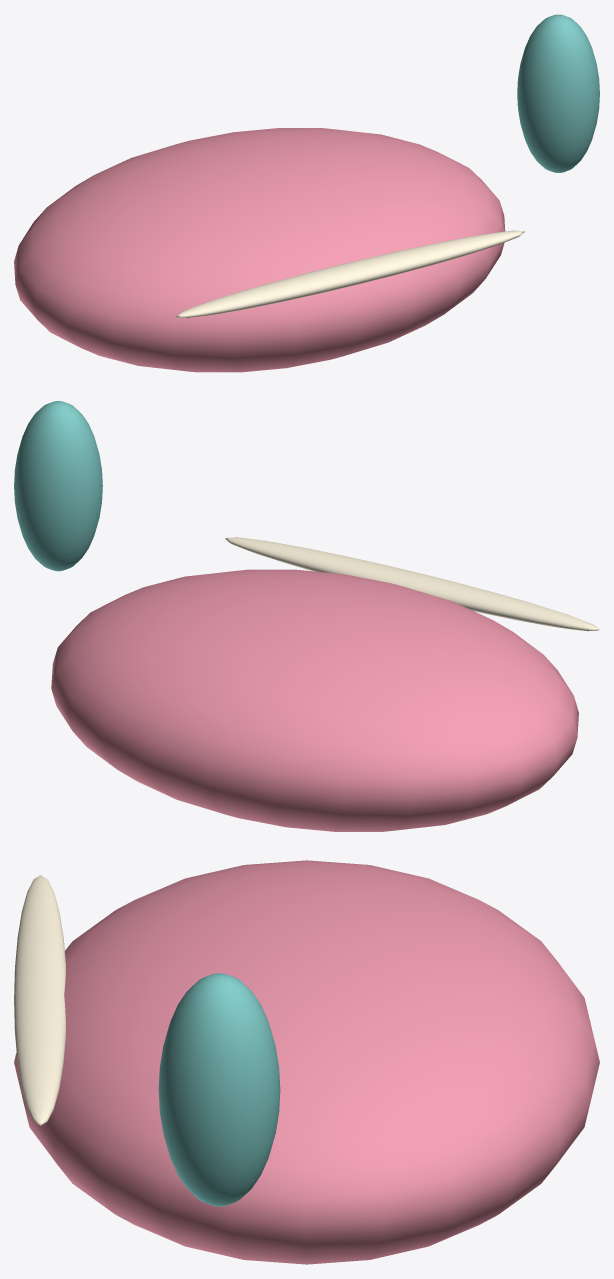
The model's file is sport.glb.
The picture shows the model from 3 angles, top to bottom: view 1: azimuth 30°, elevation 25°; view 2: azimuth 150°, elevation 25°; view 3: azimuth 270°, elevation 25°; orthographic projection. The views are drawn at different scales.
Parts seen in each view (by area): view 1: Item_sport; view 2: Item_sport; view 3: Item_sport.
Part boxes in pixels (box(x1,y1,x2,y2)): Item_sport: box(14, 14, 599, 372); Item_sport: box(14, 401, 599, 831); Item_sport: box(14, 860, 599, 1264).
Bounding box in the file's own units: 2.37 × 1.16 × 1.54.
